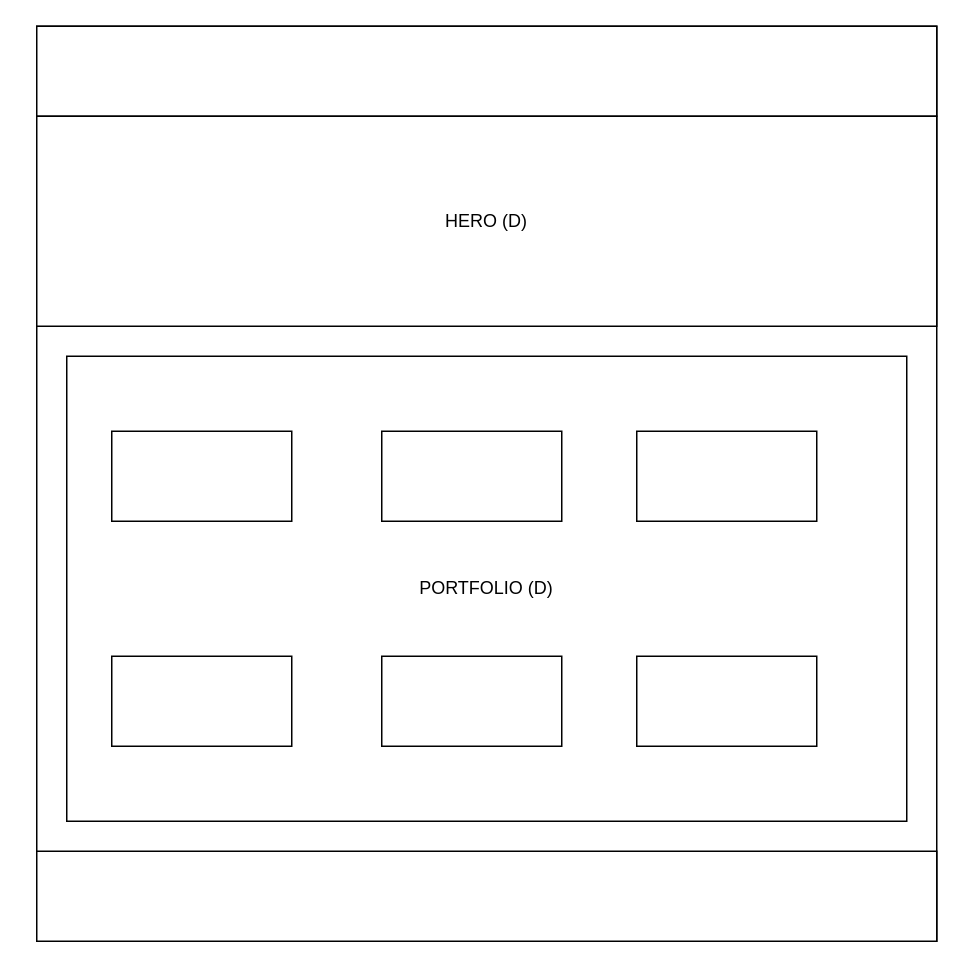
Image size: 963x968. Some labels were removed from this diagram. The centre of each missing label's shape, as x and y in pixels:
FOOTER (D): the point at 486,895
NAVBAR (D): the point at 486,70
